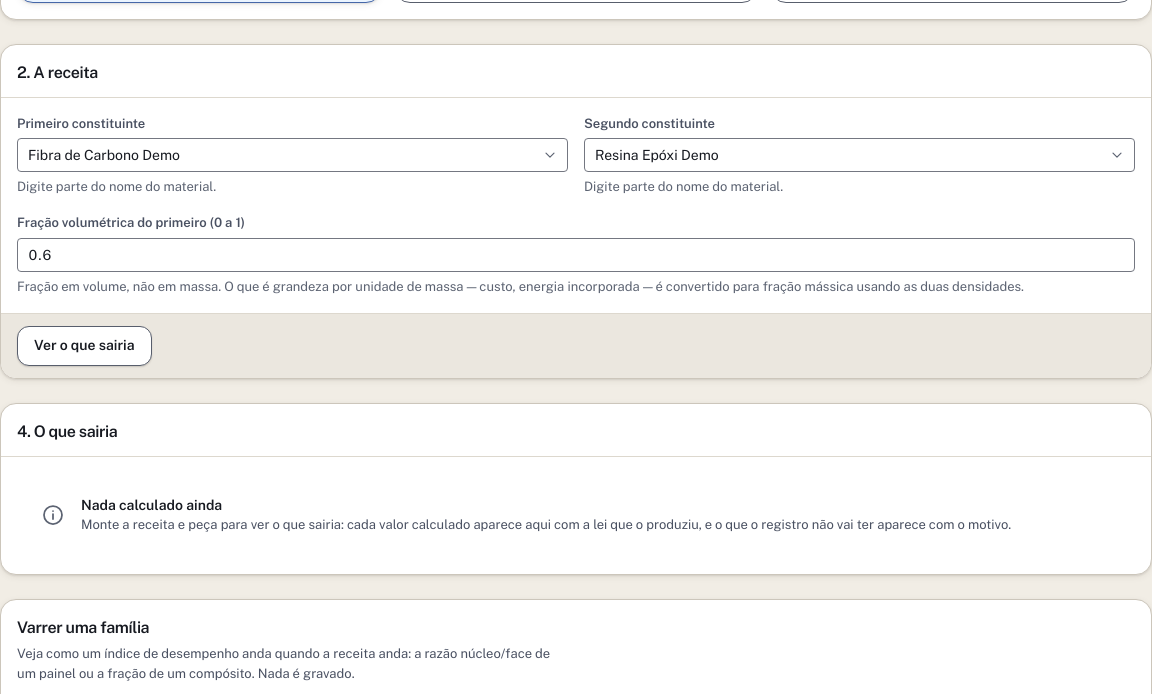
Sintetizar material › nomeia o que o registro não vai ter, com o motivo
The image size is (1152, 694).
(page scrolled)
Click the button "Ver o que sairia". click: (84, 346)
box: [17, 326, 152, 366]
(page scrolled)
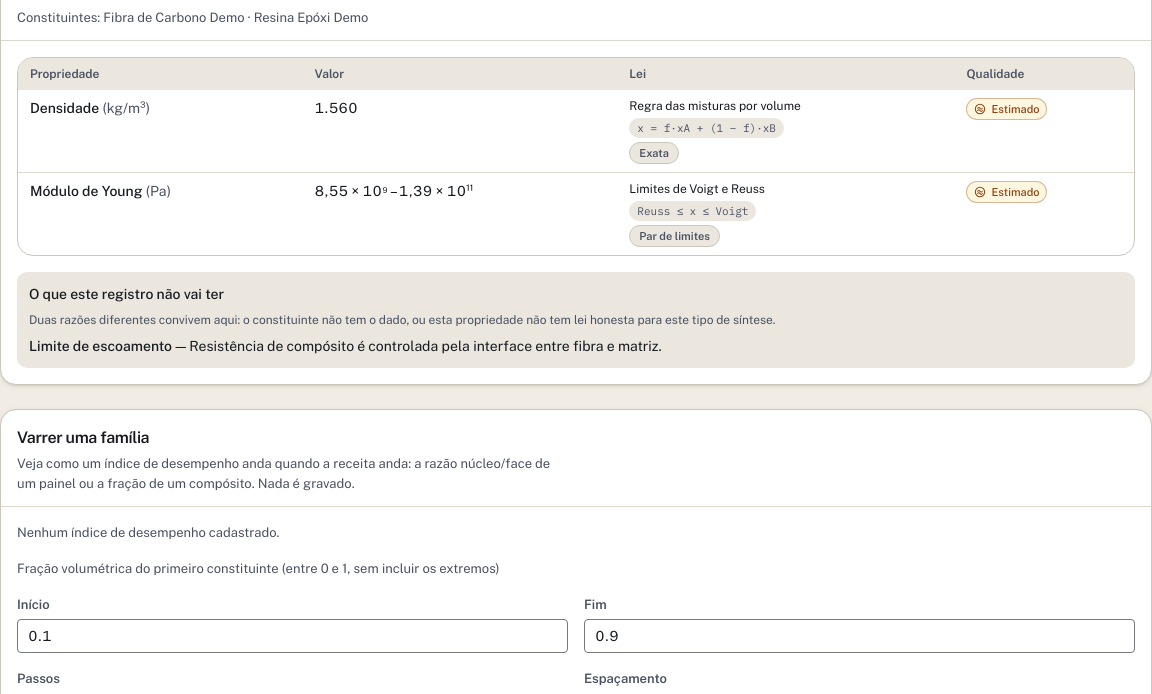
Check: the text "O que este registro não vai ter" is shown, box [29, 286, 224, 302]
Check: the text "Limite de escoamento" is shown, box [29, 338, 172, 354]
Check: the list item "interface" is shown, box [189, 338, 662, 354]
